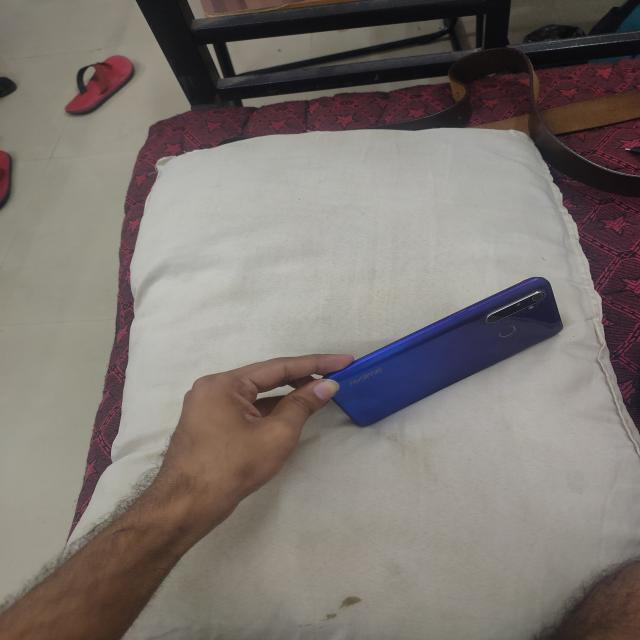Phone: (318, 272, 570, 431)
